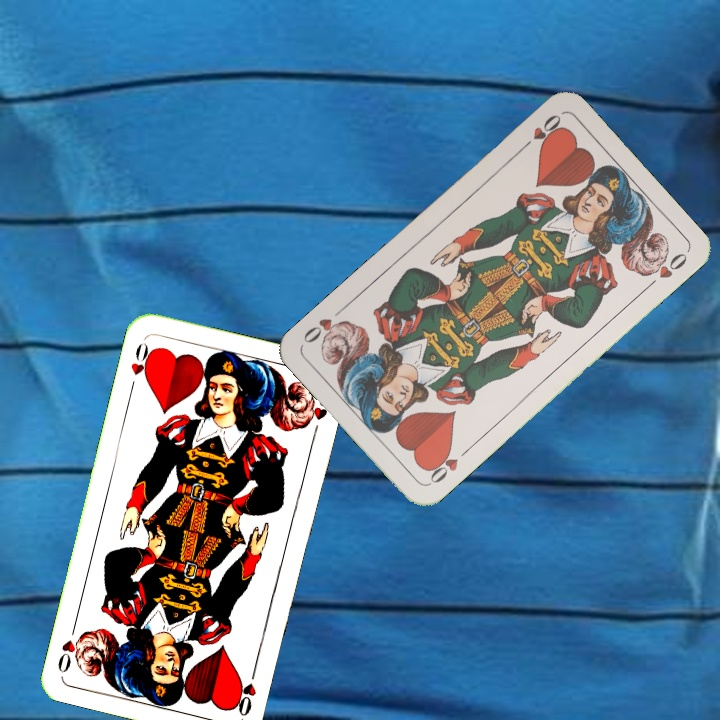HO: (423, 443, 473, 487), (516, 110, 565, 154), (126, 335, 156, 394), (232, 661, 259, 719)
